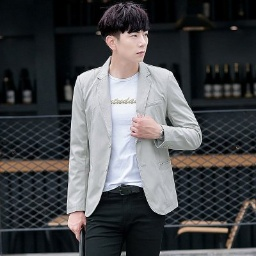face: (98, 3, 150, 65)
